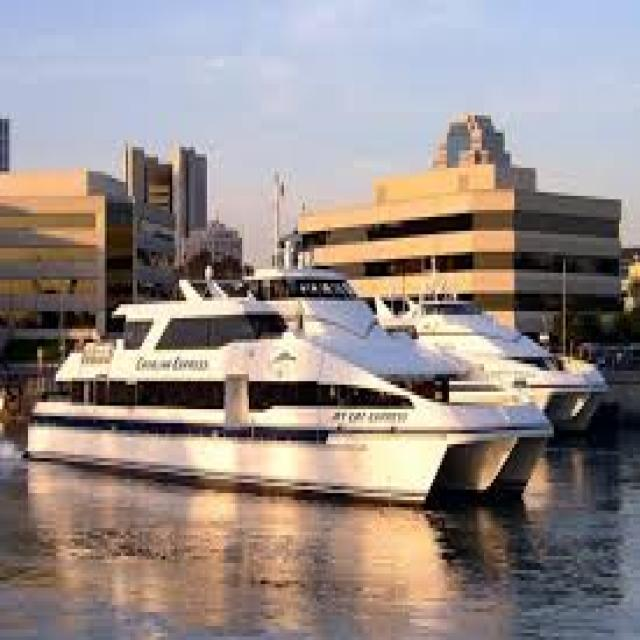houseboat: (21, 243, 536, 504), (368, 265, 602, 418), (250, 245, 457, 395)
